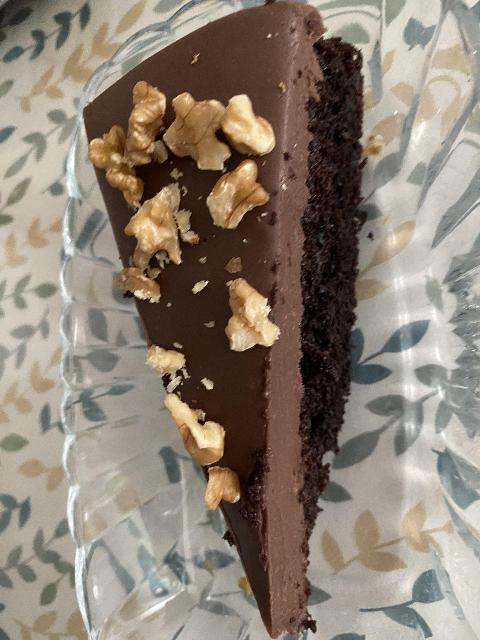Organik: (156, 30, 357, 625), (95, 100, 156, 197), (176, 97, 262, 165), (125, 190, 189, 262), (165, 400, 233, 459), (233, 290, 273, 346), (206, 473, 238, 505)
